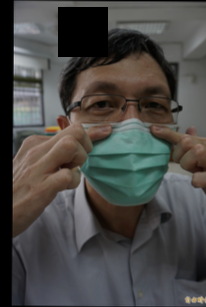with_mask: (64, 77, 176, 205)
